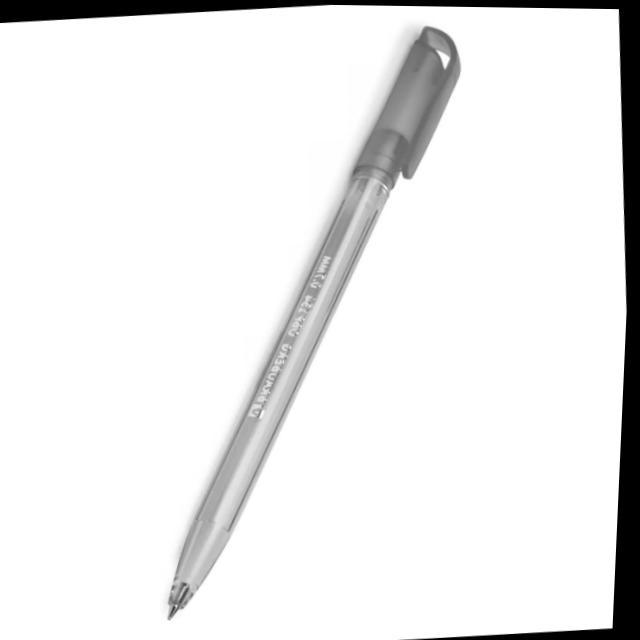pencil: (162, 27, 464, 637)
